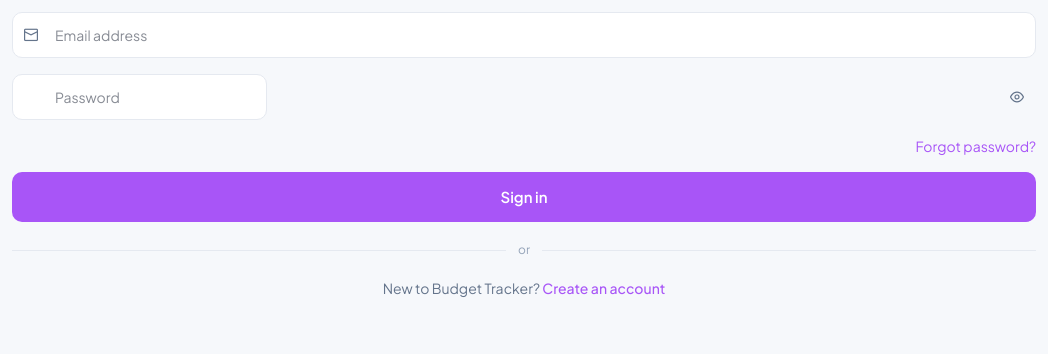
Test: LoginForm › shows invalid email error for bad format
Type "notanemail" into the field with placeholder "Email address" at (524, 35), box [12,12,1036,58]
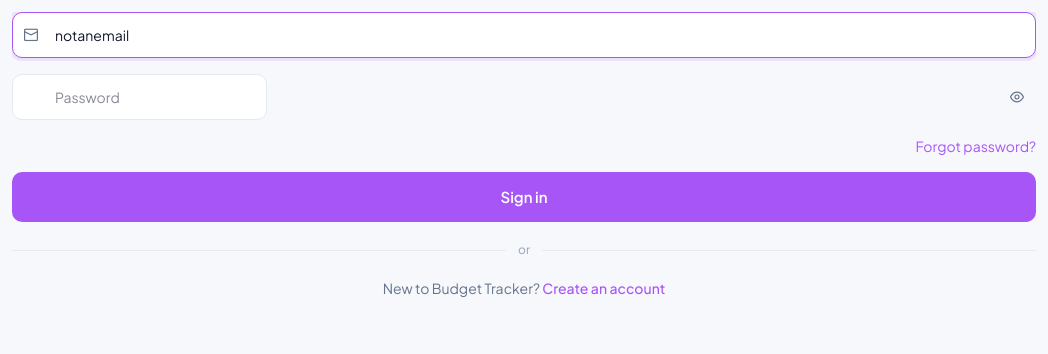
Click the button "Sign in" at (524, 197), box [12,172,1036,222]
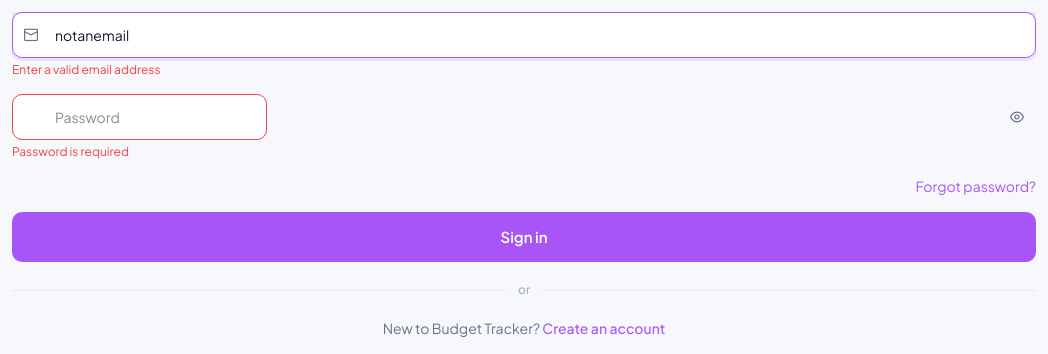
Expected: the text "Enter a valid email address" is shown, [12,62,161,77]
